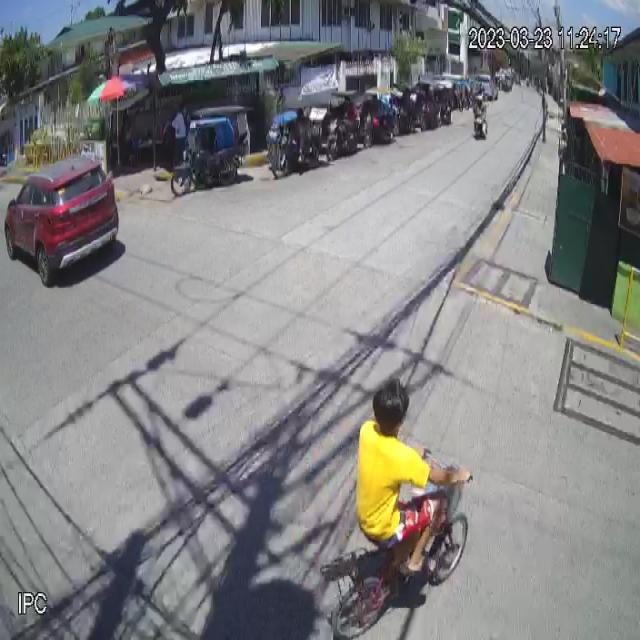Car: (4, 154, 120, 288)
Tricycle: (170, 104, 253, 198)
